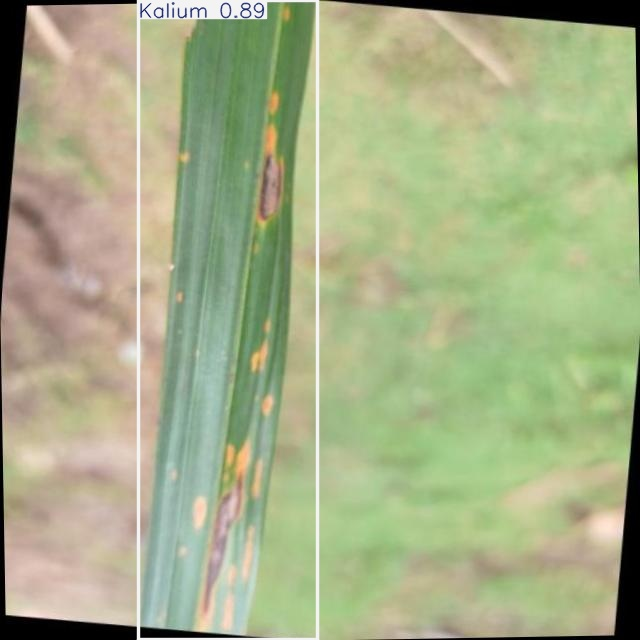Kalium: (139, 0, 318, 640)
